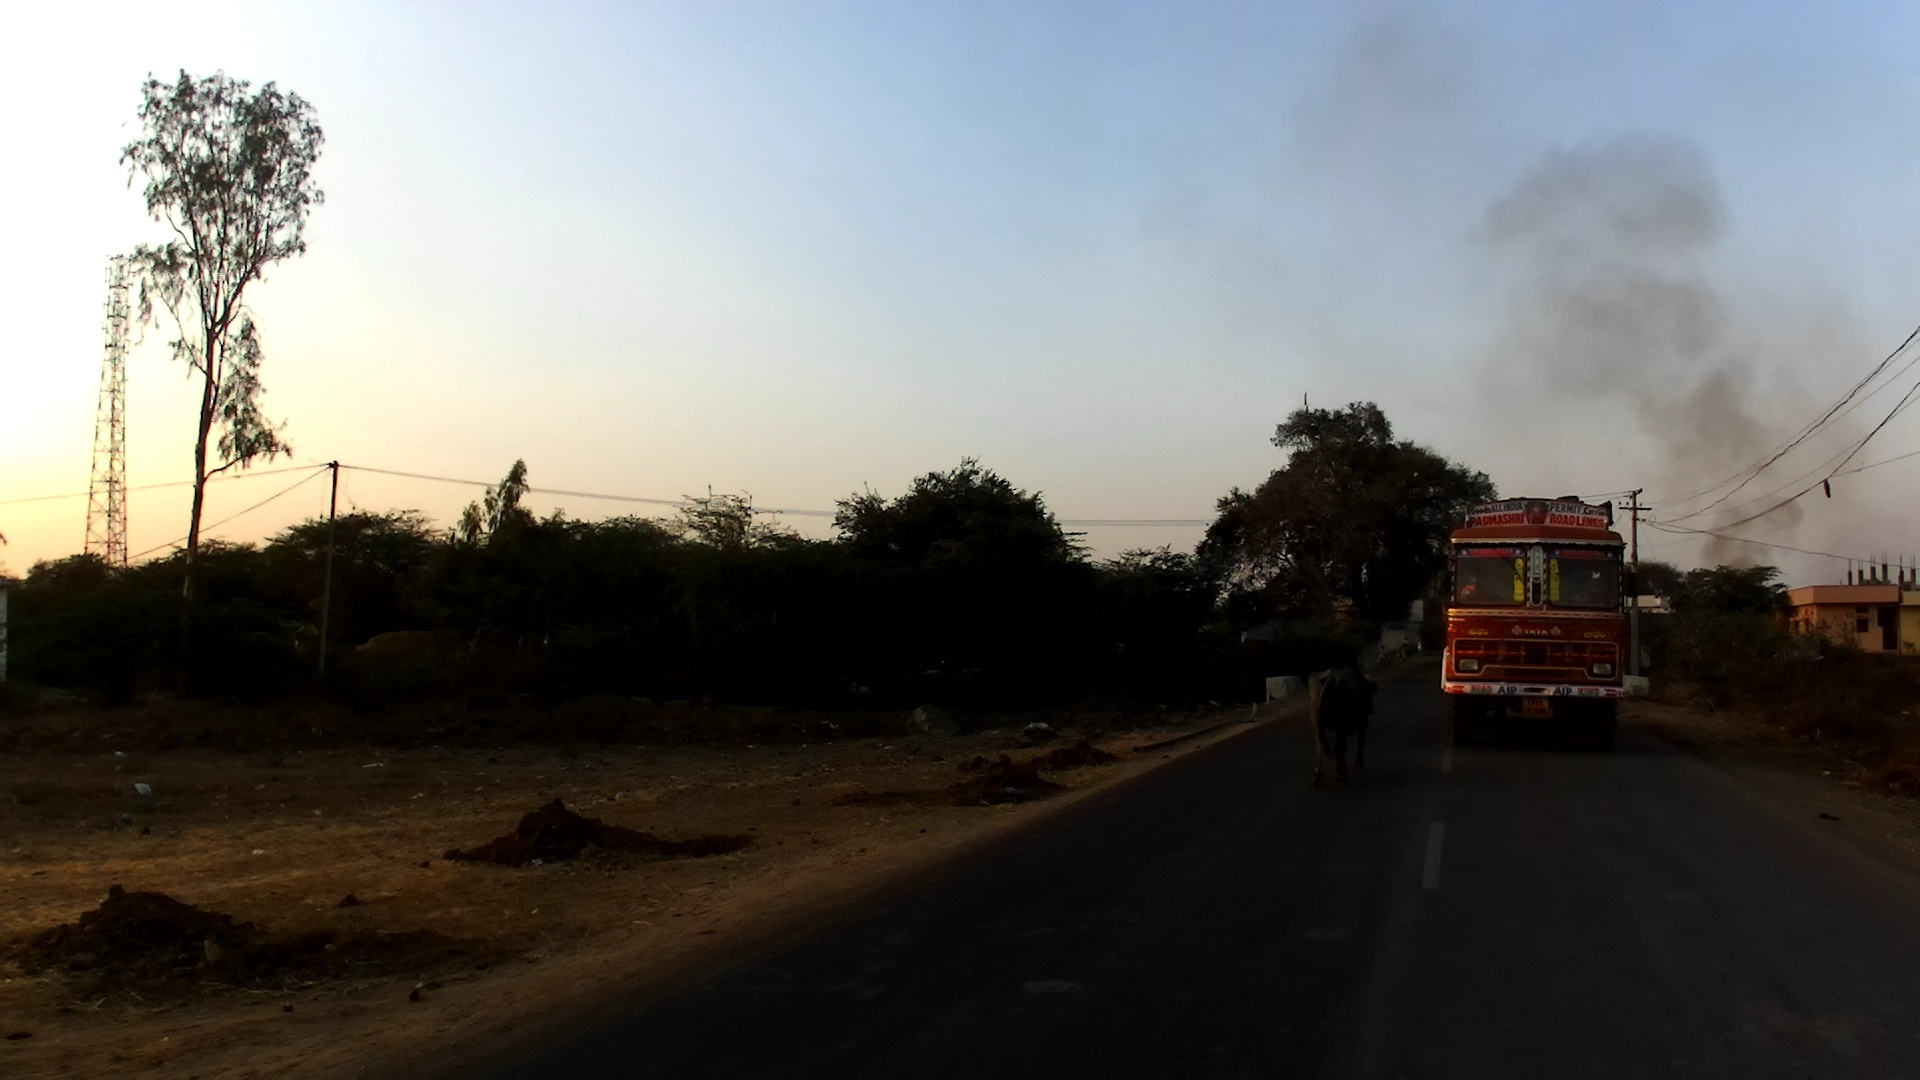animal: (1309, 667, 1381, 785)
truck: (1429, 493, 1634, 738)
